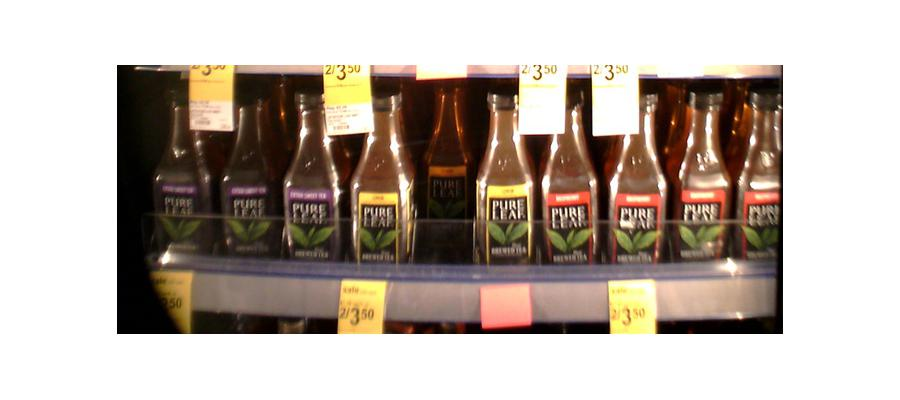bottle: (348, 88, 414, 268), (605, 92, 672, 266), (672, 81, 733, 267), (281, 95, 344, 265), (476, 87, 534, 268), (542, 94, 602, 267), (221, 85, 279, 260), (152, 92, 205, 259), (738, 83, 785, 270), (421, 82, 470, 239)
